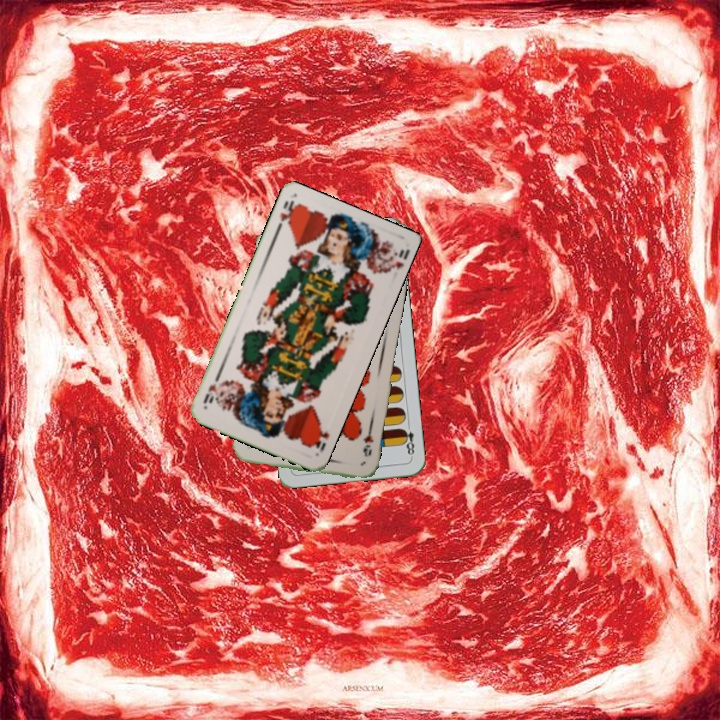E8: (398, 420, 417, 460)
H9: (359, 424, 376, 459)
HO: (272, 197, 300, 235), (307, 423, 332, 455)
